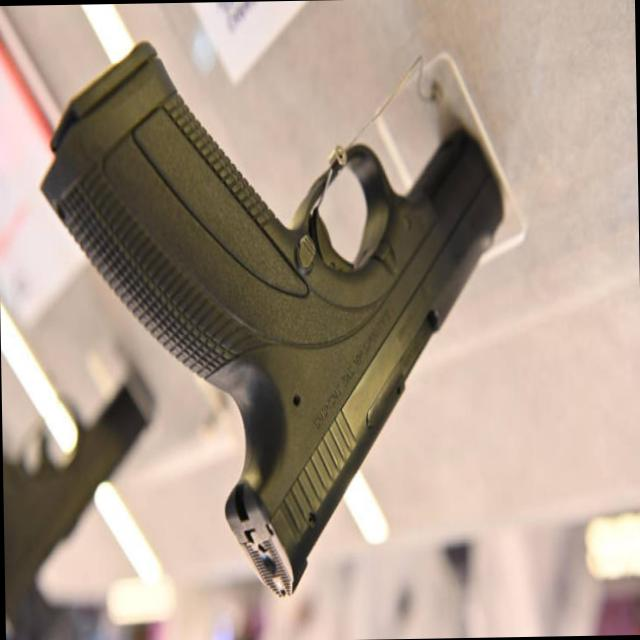Gun: (41, 13, 530, 622)
